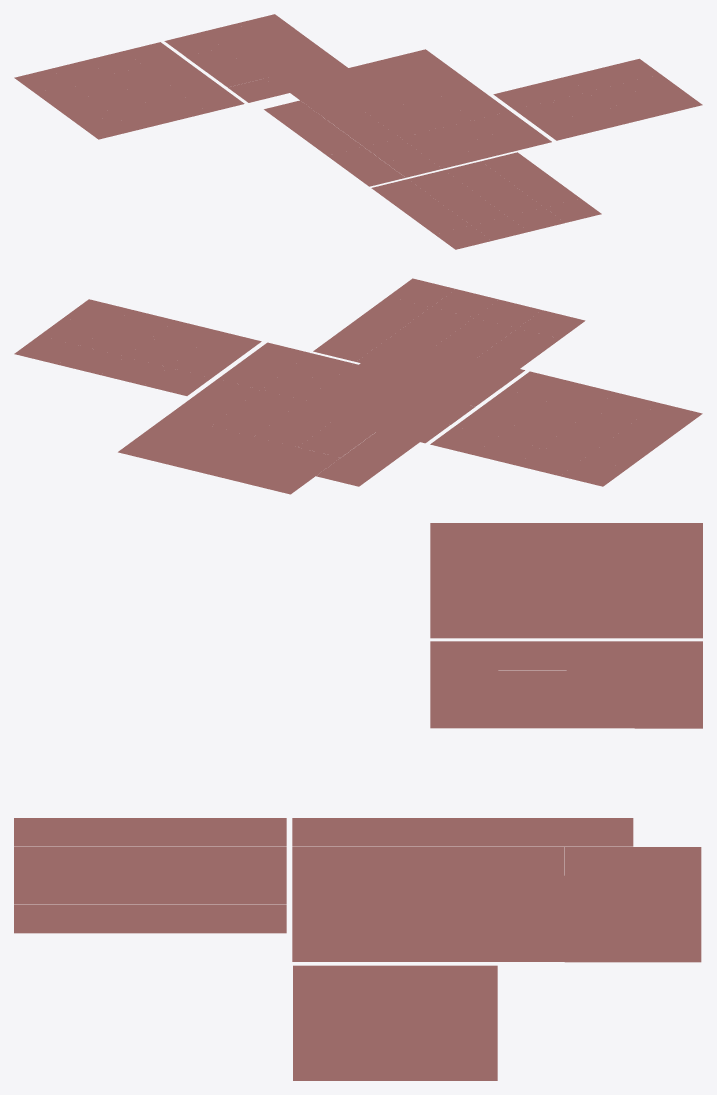
The model's file is pisomadera.fbx.
The picture shows the model from 3 angles, top to bottom: view 1: azimuth 30°, elevation 25°; view 2: azimuth 150°, elevation 25°; view 3: azimuth 270°, elevation 25°; orthographic projection. The views are drawn at different scales.
Visible parts, largest first — view 1: Plane.100; view 2: Plane.100; view 3: Plane.100.
Part boxes in pixels (<box>): Plane.100: <box>14,14,702,249</box>; Plane.100: <box>14,278,702,494</box>; Plane.100: <box>14,523,702,1080</box>.
Bounding box in the file's own units: 7747 × 944 × 5098.
